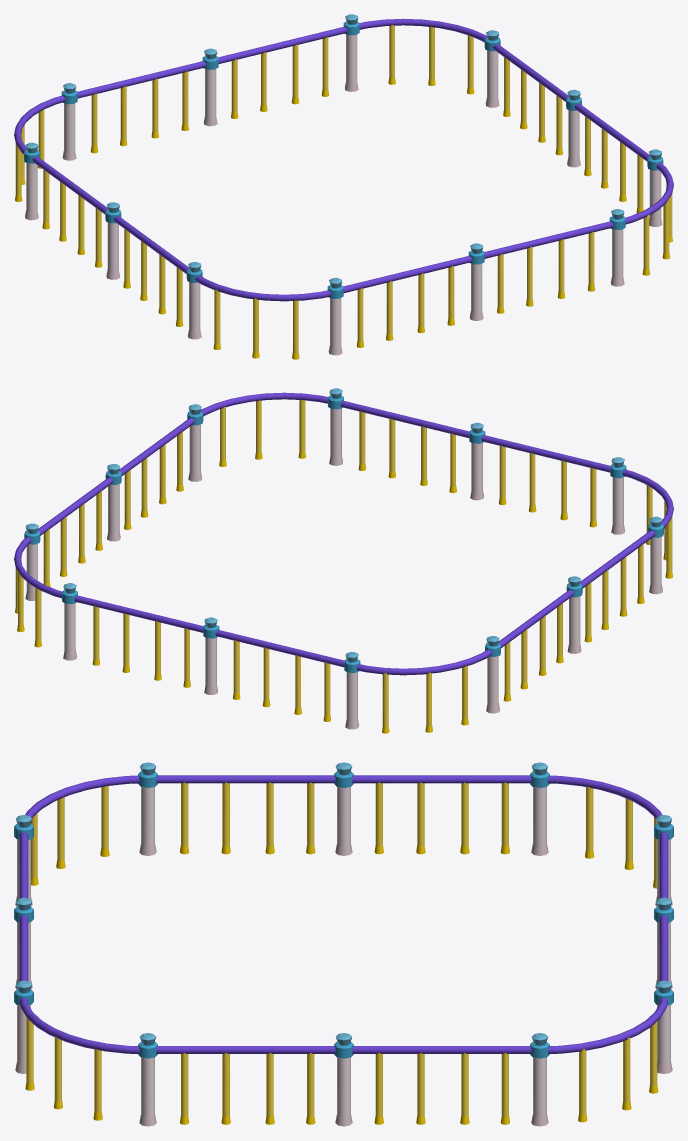
Rendered from fence_duck.fbx.
The picture shows the model from 3 angles, top to bottom: view 1: azimuth 30°, elevation 25°; view 2: azimuth 150°, elevation 25°; view 3: azimuth 270°, elevation 25°; orthographic projection. The views are drawn at different scales.
Visible parts, largest first — view 1: fence_duck; view 2: fence_duck; view 3: fence_duck.
Boxes of the visible parts, box(x1,y1,x2,y2) form: fence_duck: box(14, 14, 673, 359); fence_duck: box(14, 388, 673, 733); fence_duck: box(14, 762, 673, 1126).
Size of the model in its own units: 505 by 74.33 by 505.
